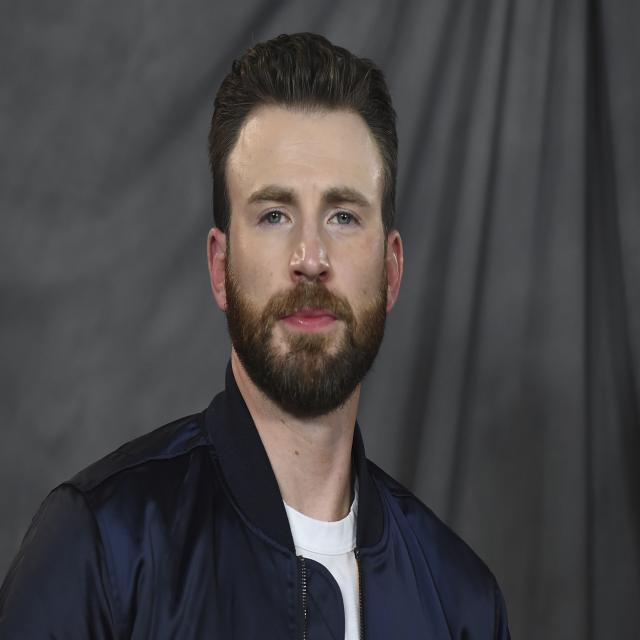adult: (6, 29, 510, 640)
